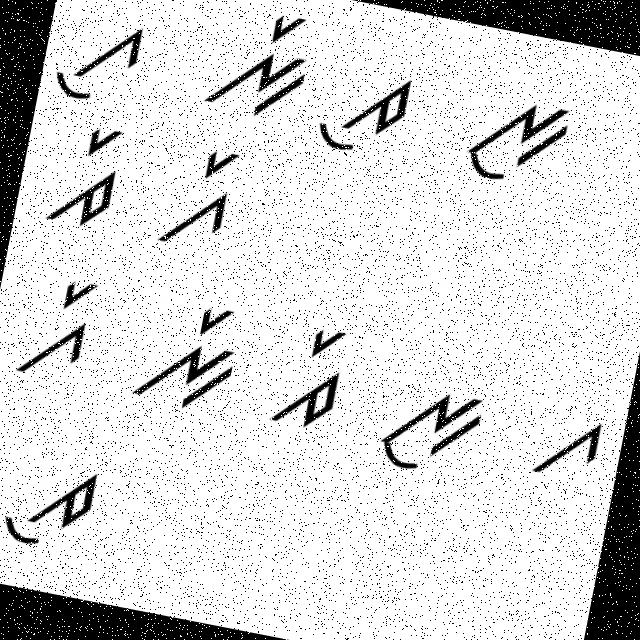ga: (518, 398, 610, 499)
gar: (8, 258, 110, 394), (152, 137, 254, 263)
gaw: (41, 2, 149, 118)
ngar: (120, 284, 251, 432), (201, 1, 322, 133)
ngaw: (368, 372, 490, 492), (458, 90, 582, 202)
tar: (42, 114, 143, 246), (264, 310, 362, 441)
taw: (0, 444, 110, 571), (313, 60, 418, 176)
